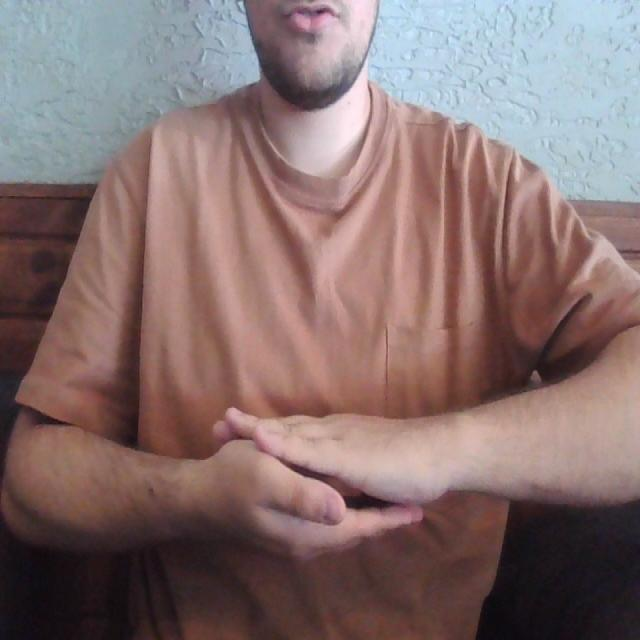Arkadas: (32, 392, 570, 571)
